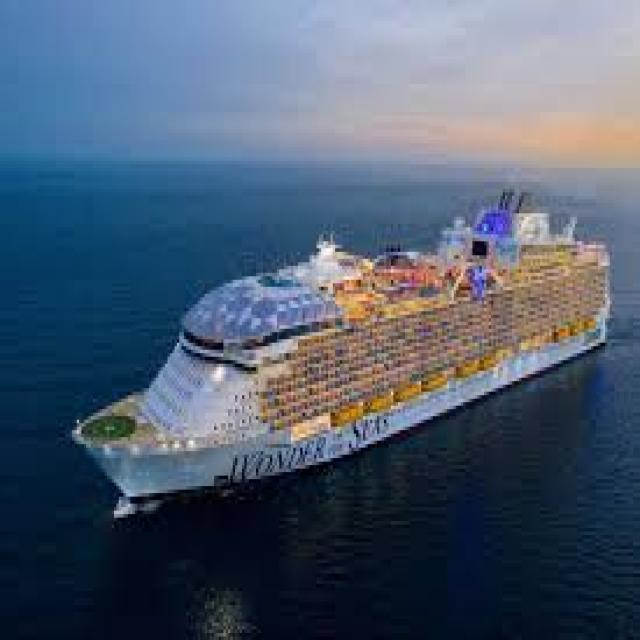PassengerShip: (60, 135, 619, 488)
